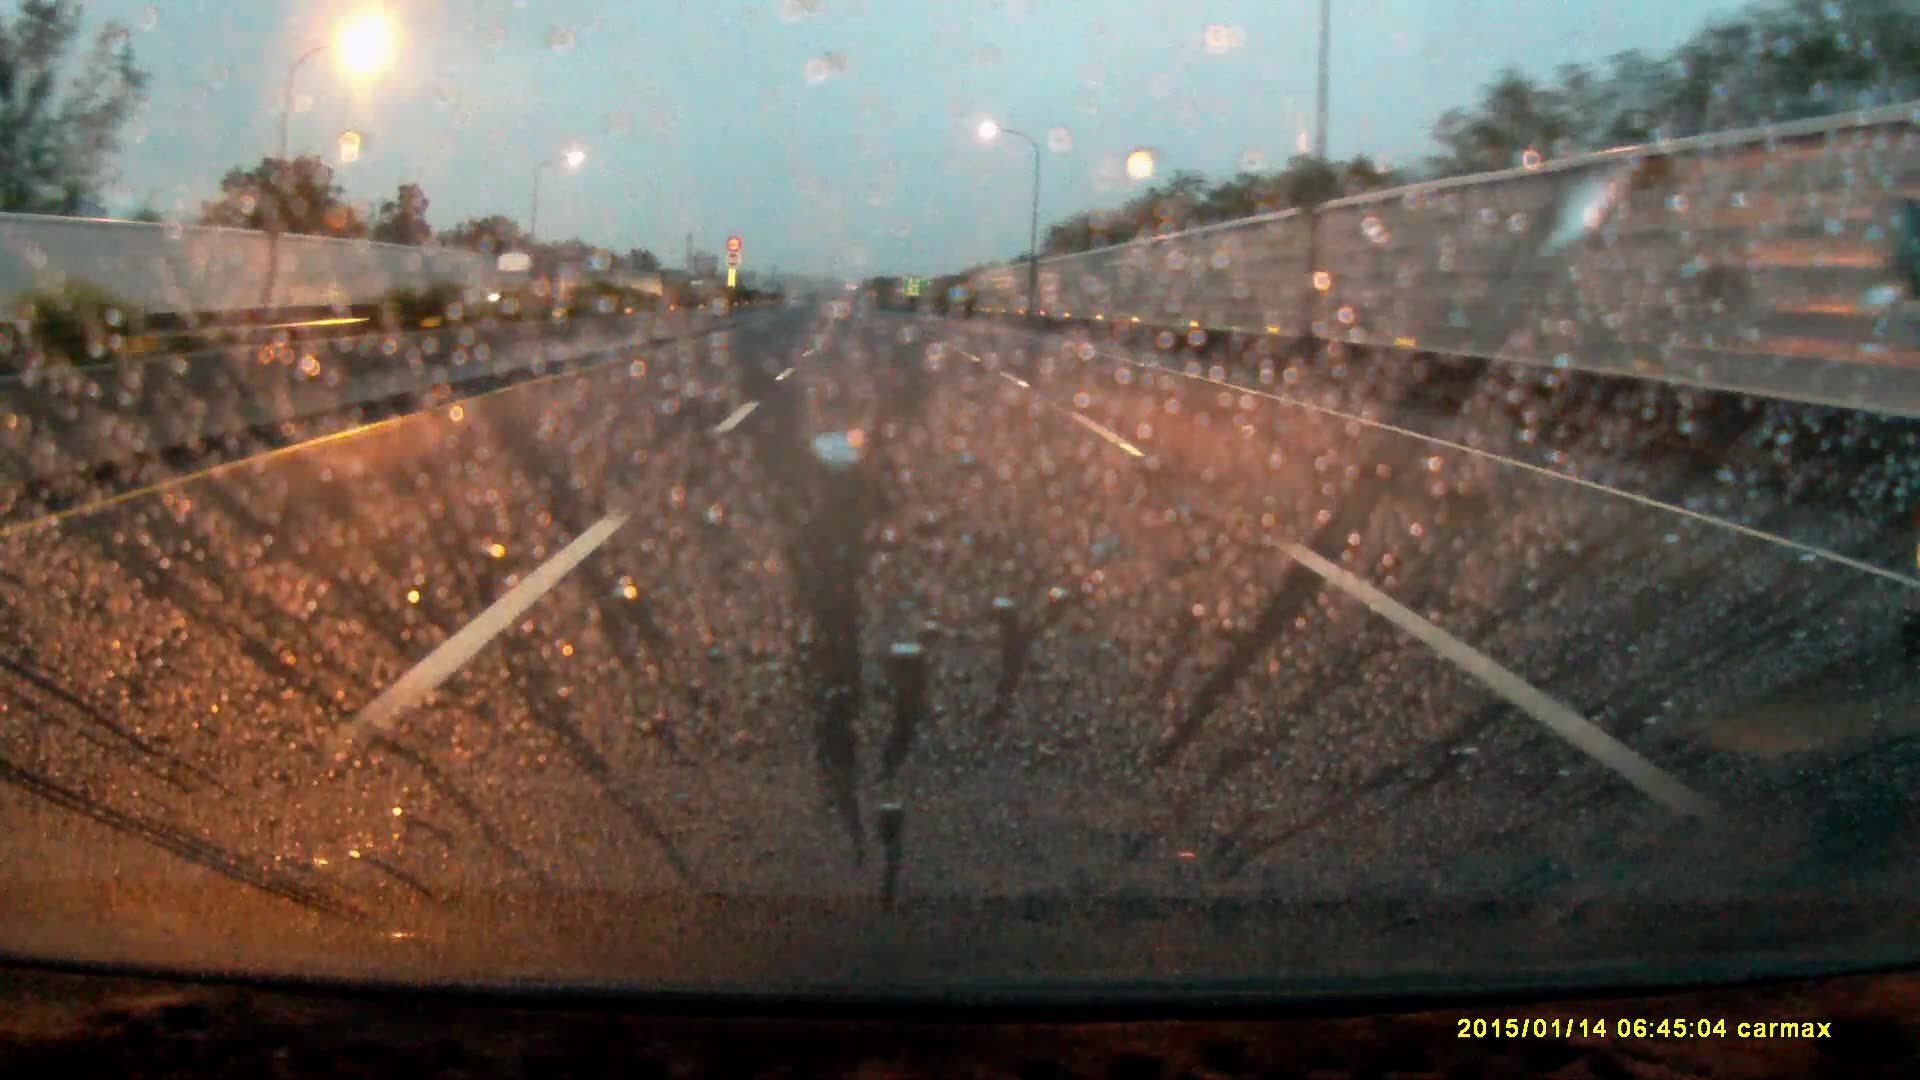vehicle: (491, 252, 556, 313)
